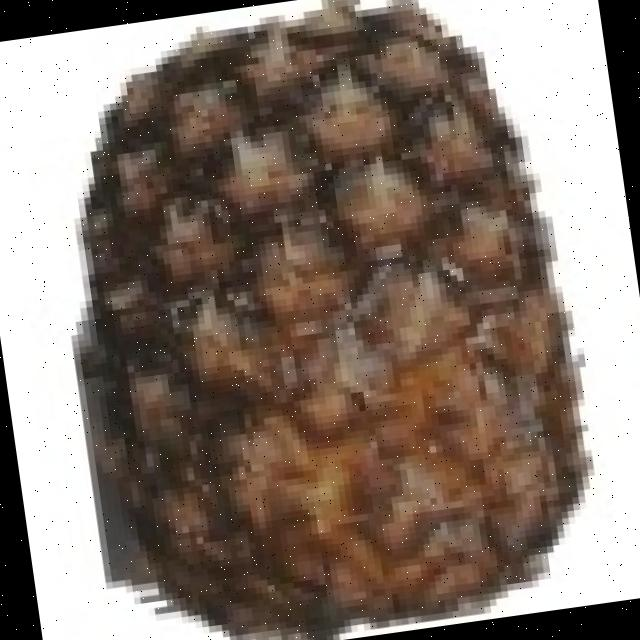pineapple: (93, 0, 593, 626)
